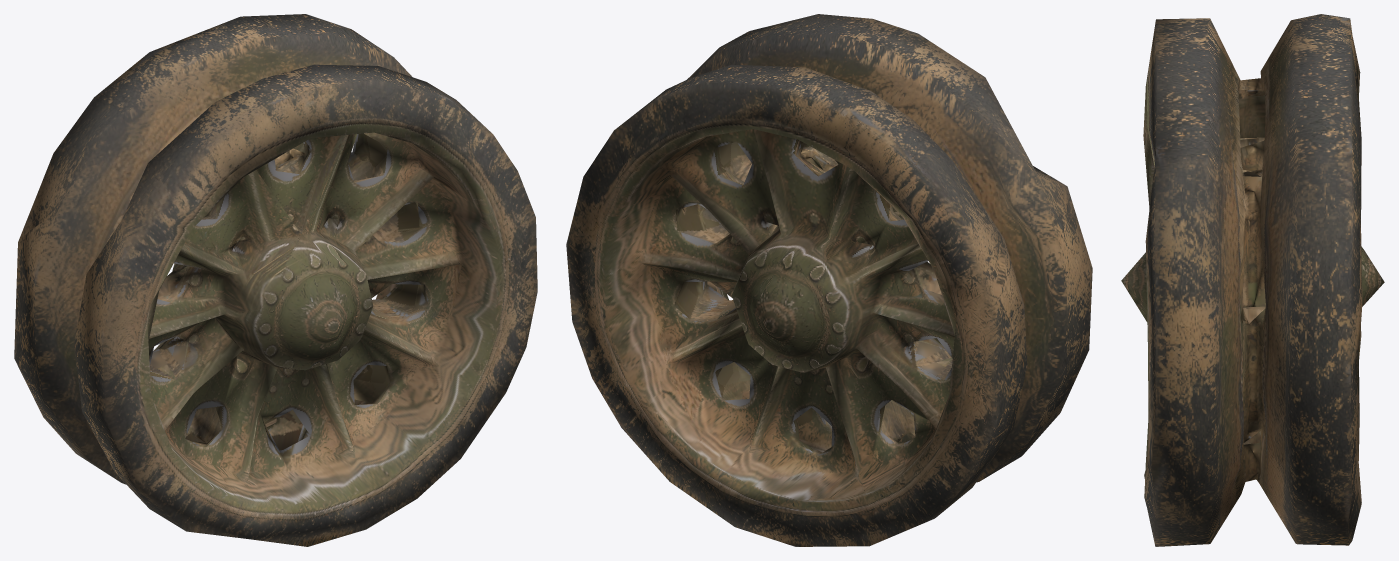
File: SM_VH_T34_85_RoadWheel_Varco.fbx
3 views of the same model, side by side, from view 1: azimuth 30°, elevation 25°; view 2: azimuth 150°, elevation 25°; view 3: azimuth 270°, elevation 25° (orthographic). The views are drawn at different scales.
Parts seen in each view (by area): view 1: texture_mapping; view 2: texture_mapping; view 3: texture_mapping.
Boxes of the visible parts, <box> form: texture_mapping: <box>14,14,537,546</box>; texture_mapping: <box>566,14,1092,546</box>; texture_mapping: <box>1121,14,1384,546</box>.
Size of the model in its own units: 1.01 by 0.4993 by 1.
1 material, 1 textured.
